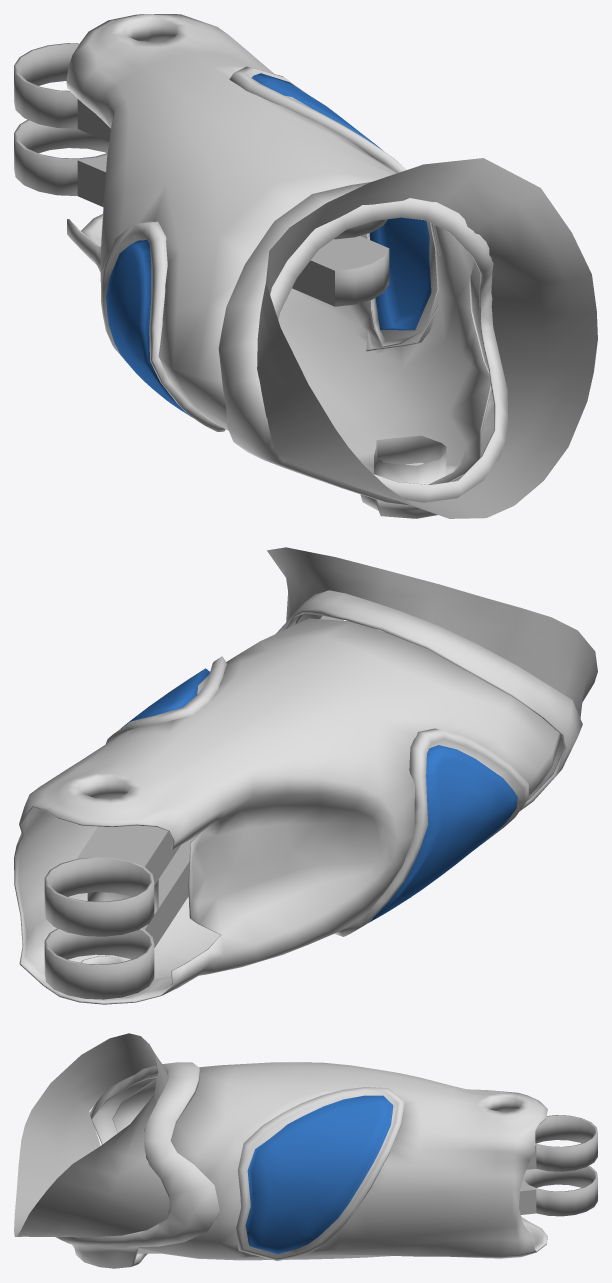
The model's file is RHipPitch.dae.
3 views of the same model, one above another, from view 1: azimuth 30°, elevation 25°; view 2: azimuth 150°, elevation 25°; view 3: azimuth 270°, elevation 25° (orthographic). The views are drawn at different scales.
Visible parts, largest first — view 1: RHipPitch, Object002_skip_001; view 2: RHipPitch, Object002_skip_001; view 3: RHipPitch, Object002_skip_001.
Boxes of the visible parts, x1,y1,x2,y2 form: RHipPitch: [66, 14, 597, 518]; Object002_skip_001: [14, 43, 389, 306]; RHipPitch: [14, 547, 597, 1004]; Object002_skip_001: [44, 825, 197, 999]; RHipPitch: [14, 1033, 547, 1268]; Object002_skip_001: [519, 1115, 597, 1216].
Bounding box in the file's own units: 0.1968 × 0.1641 × 0.4386.
